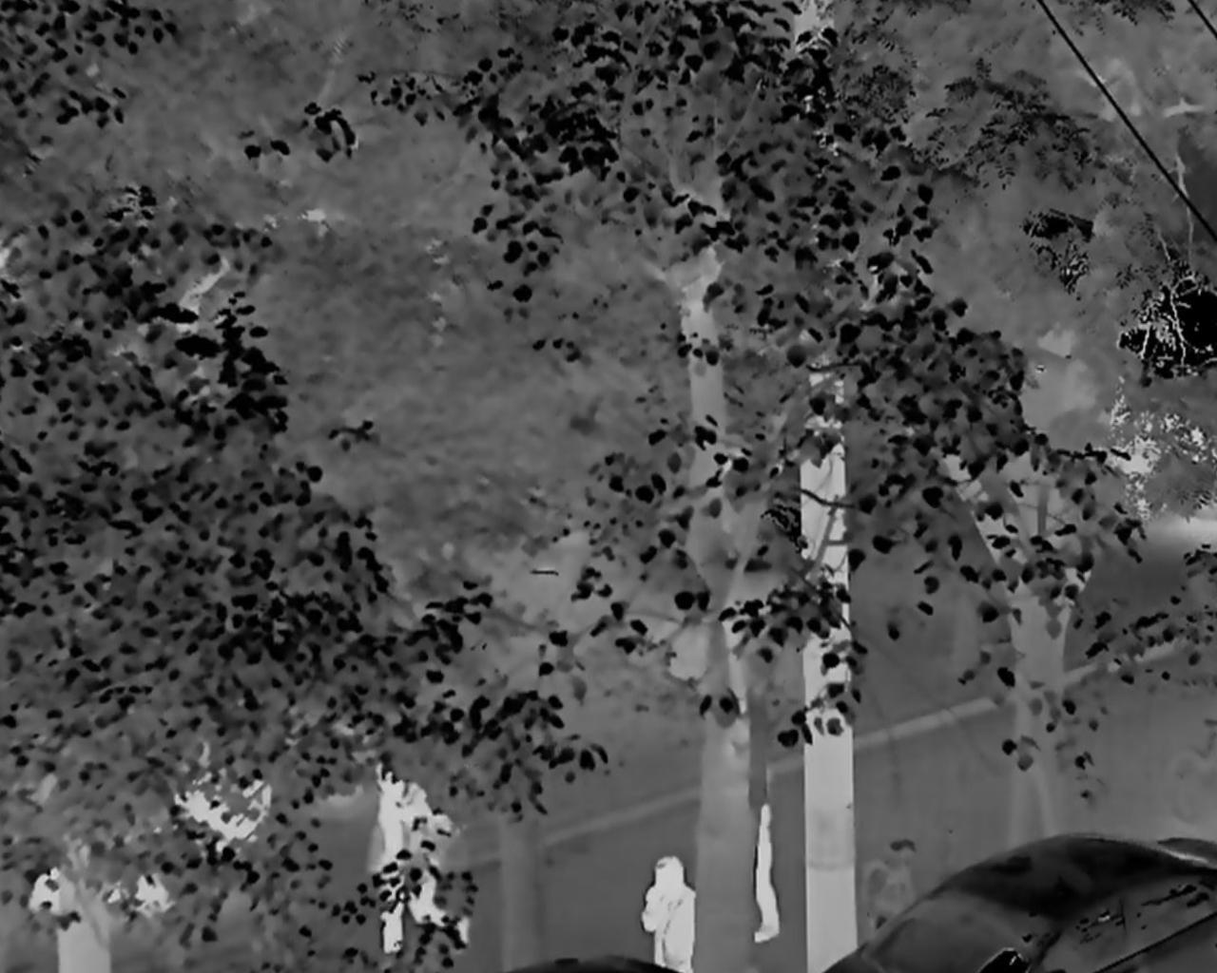person: (356, 758, 475, 957), (644, 858, 695, 973)
